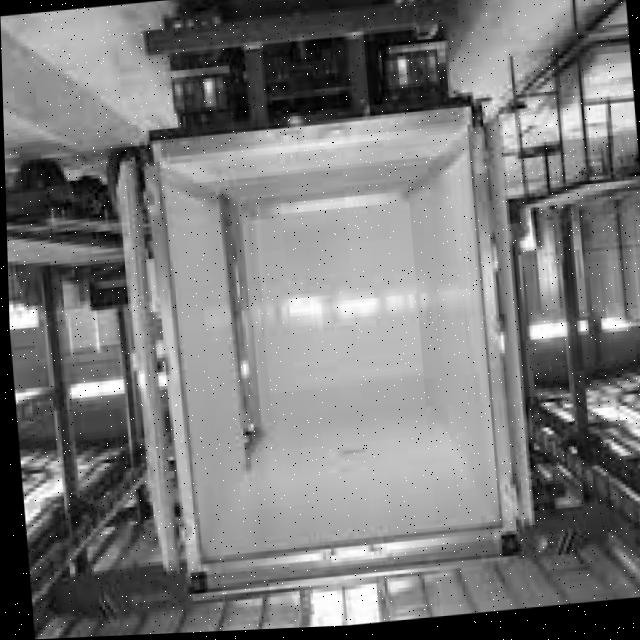truck: (102, 25, 549, 621)
